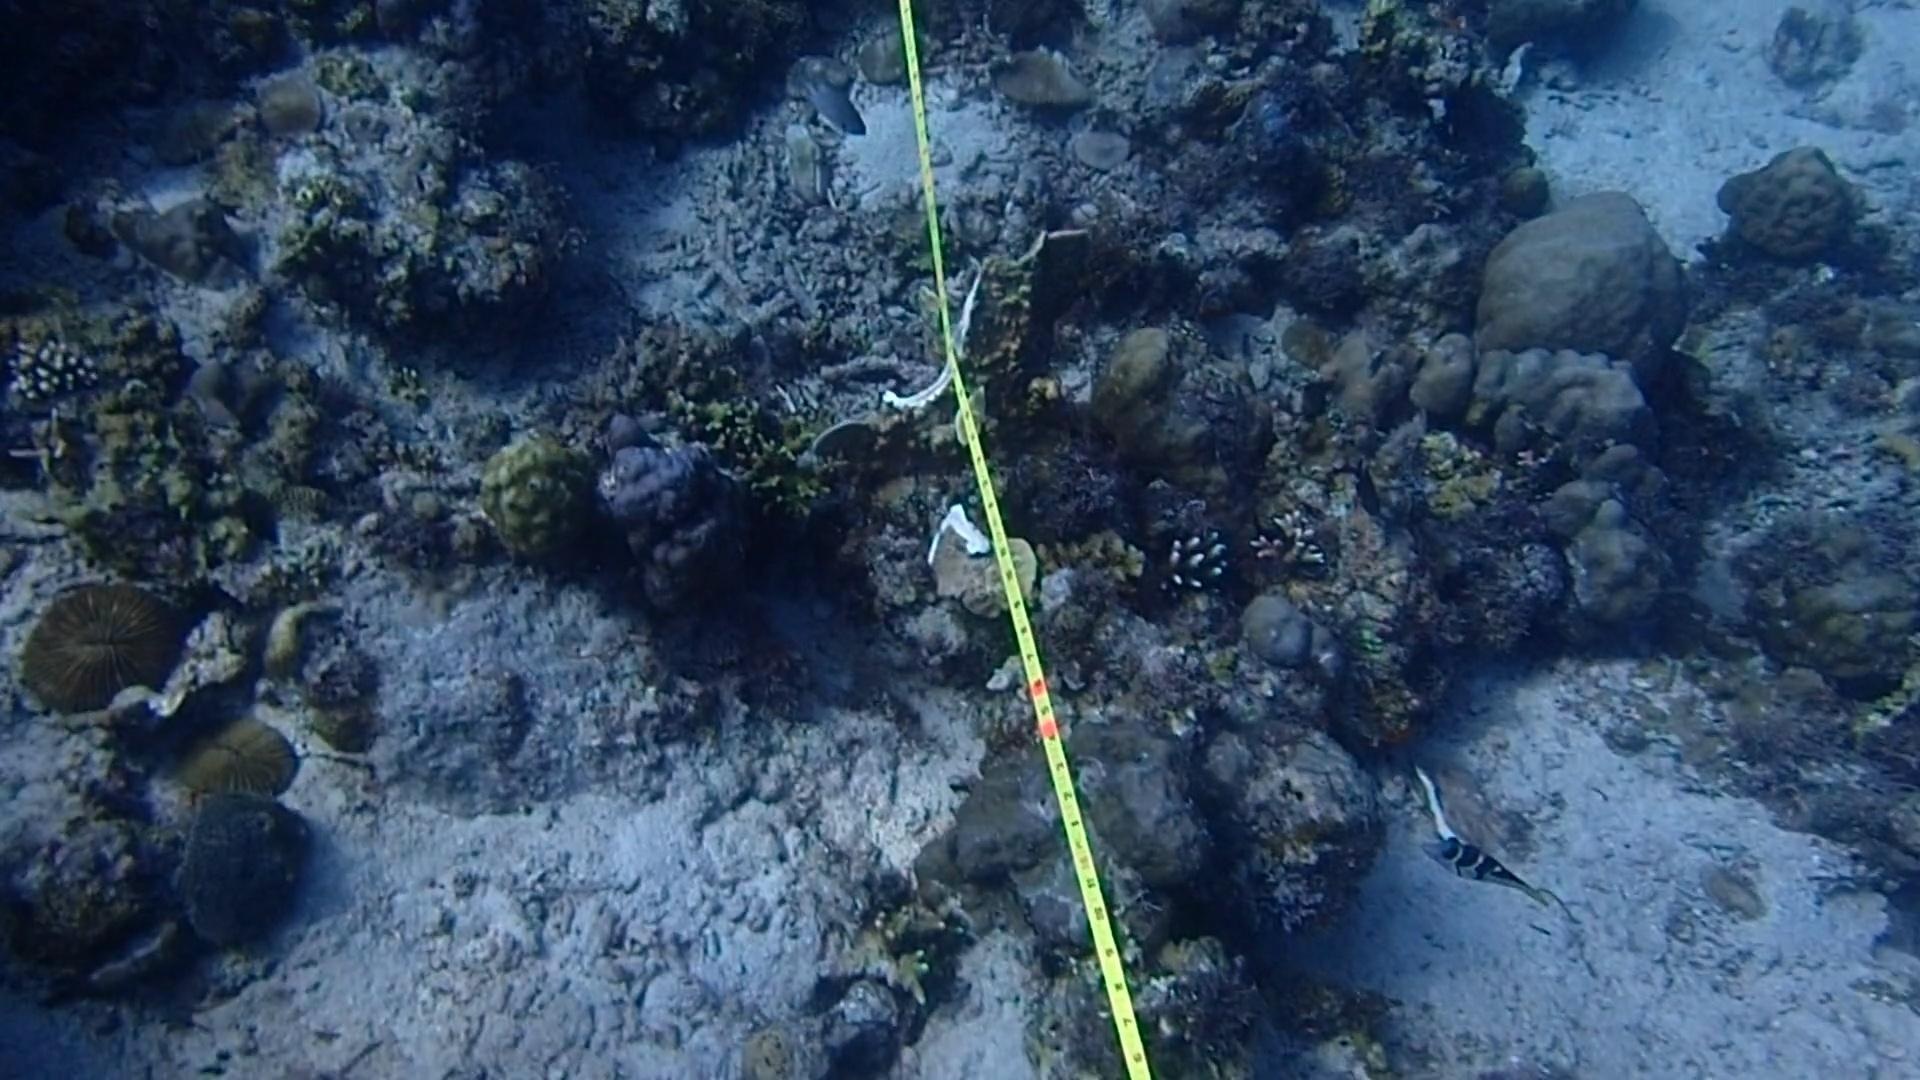Striped Fish: (1425, 825, 1567, 918)
